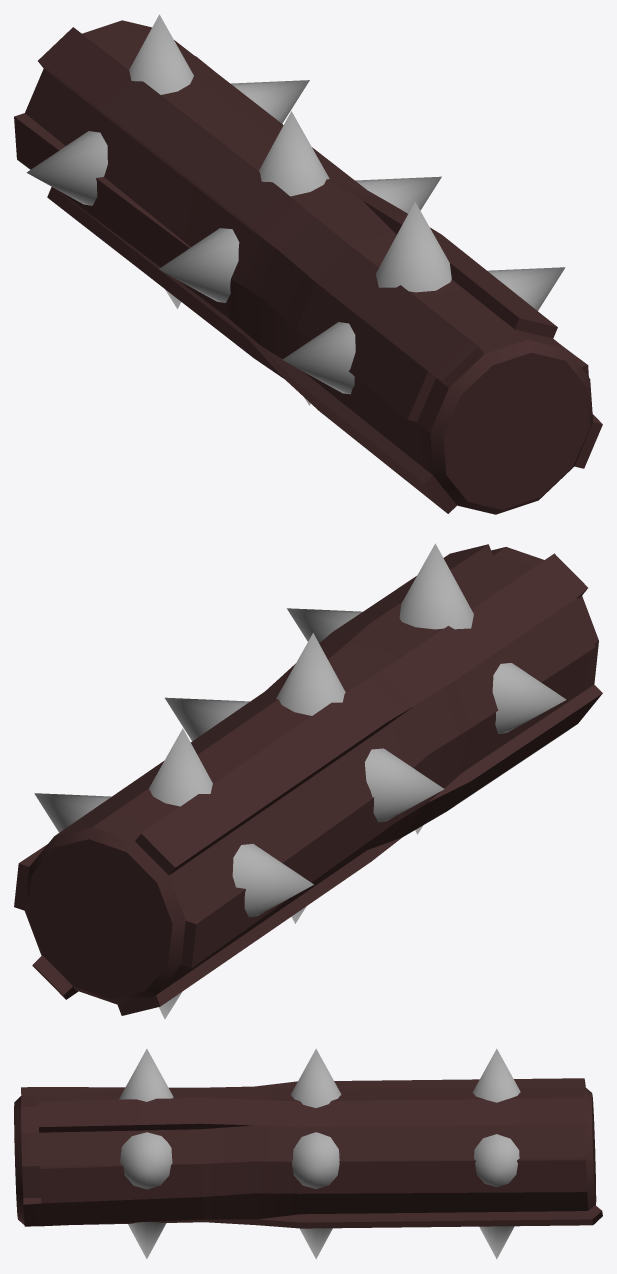
Rendered from TroncoCR.fbx.
3 views of the same model, one above another, from view 1: azimuth 30°, elevation 25°; view 2: azimuth 150°, elevation 25°; view 3: azimuth 270°, elevation 25° (orthographic). The views are drawn at different scales.
Parts seen in each view (by area): view 1: pasted__polySurface29, group5_pasted__pasted__pasted__pasted__pCone1; view 2: pasted__polySurface29, group5_pasted__pasted__pasted__pasted__pCone1; view 3: pasted__polySurface29, group5_pasted__pasted__pasted__pasted__pCone1.
Boxes of the visible parts, left/top/right/bottom form: pasted__polySurface29: left=14, top=20, right=602, bottom=514; group5_pasted__pasted__pasted__pasted__pCone1: left=26, top=14, right=565, bottom=405; pasted__polySurface29: left=14, top=544, right=602, bottom=1015; group5_pasted__pasted__pasted__pasted__pCone1: left=34, top=543, right=566, bottom=1019; pasted__polySurface29: left=14, top=1078, right=602, bottom=1228; group5_pasted__pasted__pasted__pasted__pCone1: left=119, top=1048, right=520, bottom=1259.
Bounding box in the file's own units: 121 × 122 × 317.
